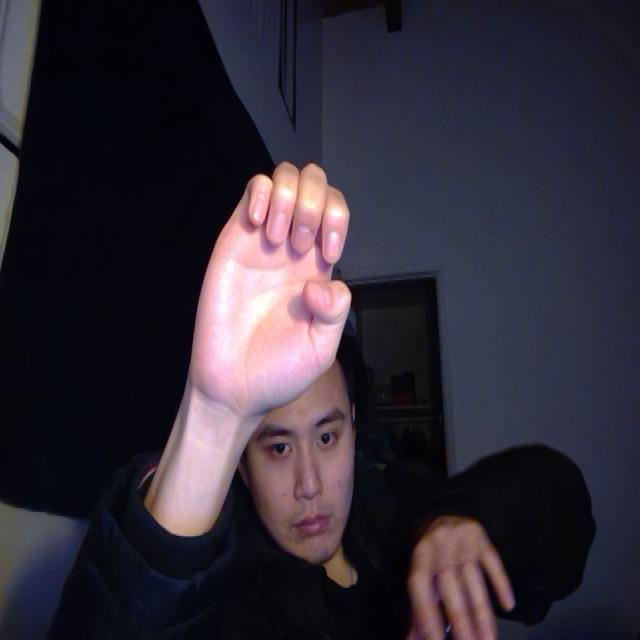E: (179, 146, 366, 456)
